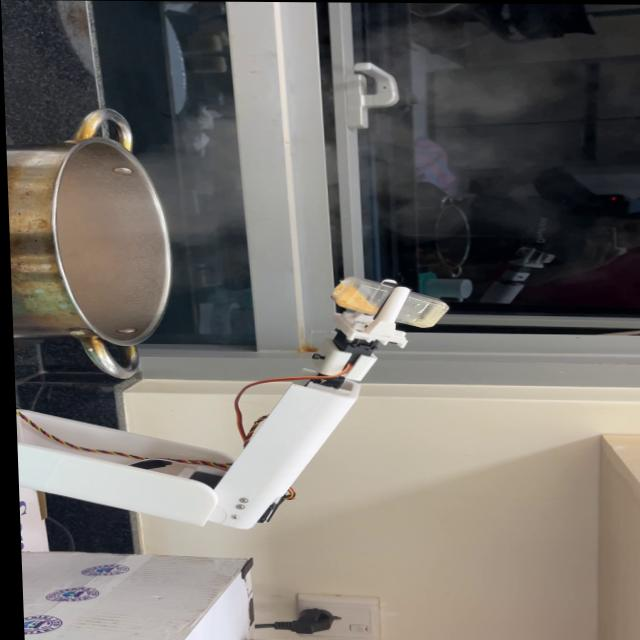cooking_pot: (7, 109, 163, 382)
garlic_powder: (325, 281, 368, 315)
